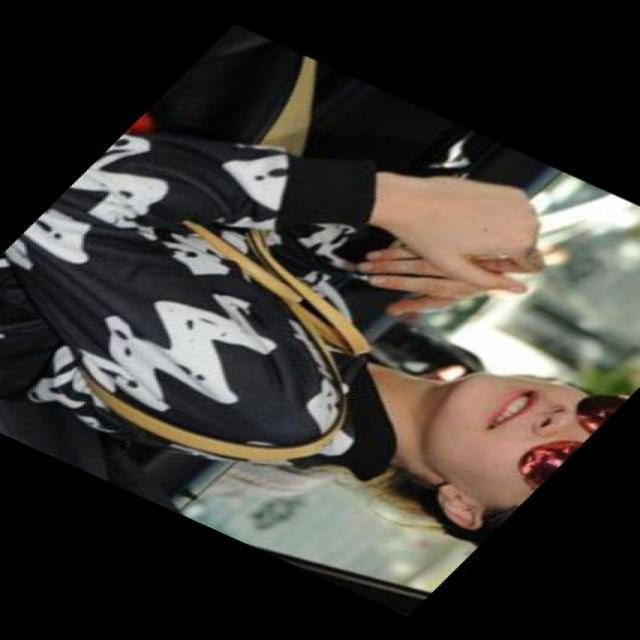glasses: (481, 368, 640, 509)
